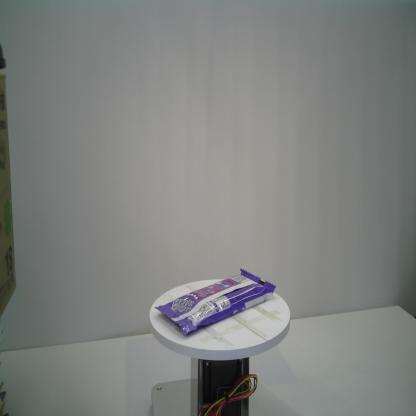Candy: (154, 267, 277, 336)
